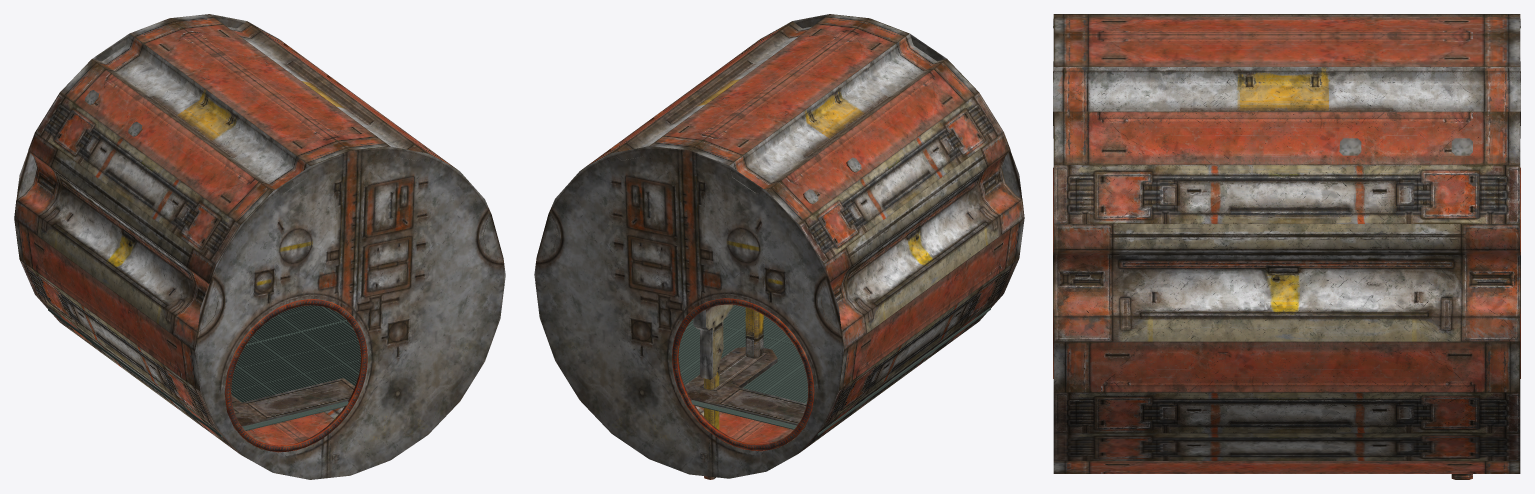
Rendered from airlock_tau.dae.
3 views of the same model, side by side, from view 1: azimuth 30°, elevation 25°; view 2: azimuth 150°, elevation 25°; view 3: azimuth 270°, elevation 25° (orthographic). The views are drawn at different scales.
Visible parts, largest first — view 1: Mesh, Mesh__3_, Mesh__2_; view 2: Mesh, Mesh__3_, Mesh__2_; view 3: Mesh.
Part boxes in pixels (x1=…): Mesh: x1=14, y1=14, x2=505, y2=479; Mesh__3_: x1=48, y1=305, x2=360, y2=436; Mesh__2_: x1=224, y1=298, x2=367, y2=452; Mesh: x1=534, y1=14, x2=1024, y2=479; Mesh__3_: x1=678, y1=305, x2=990, y2=435; Mesh__2_: x1=672, y1=298, x2=814, y2=450; Mesh: x1=1053, y1=14, x2=1520, y2=479.
Bounding box in the file's own units: 7.9 × 8.34 × 8.
